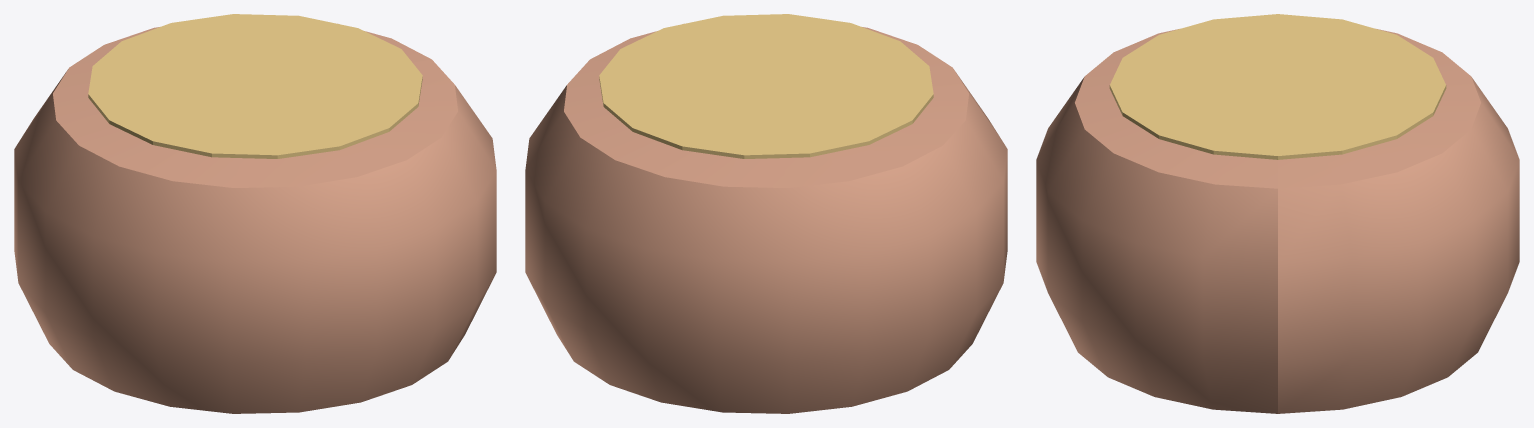
The model's file is bedroom-and-living-room-furniture-pouffe-round-fa2b1e24.glb.
3 views of the same model, side by side, from view 1: azimuth 30°, elevation 25°; view 2: azimuth 150°, elevation 25°; view 3: azimuth 270°, elevation 25° (orthographic).
Parts seen in each view (by area): view 1: pouffe-round; view 2: pouffe-round; view 3: pouffe-round.
Boxes of the visible parts, x1=… form: pouffe-round: x1=14, y1=14, x2=496, y2=413; pouffe-round: x1=525, y1=14, x2=1007, y2=413; pouffe-round: x1=1036, y1=14, x2=1519, y2=413.
Size of the model in its own units: 0.69 by 0.378 by 0.69.
